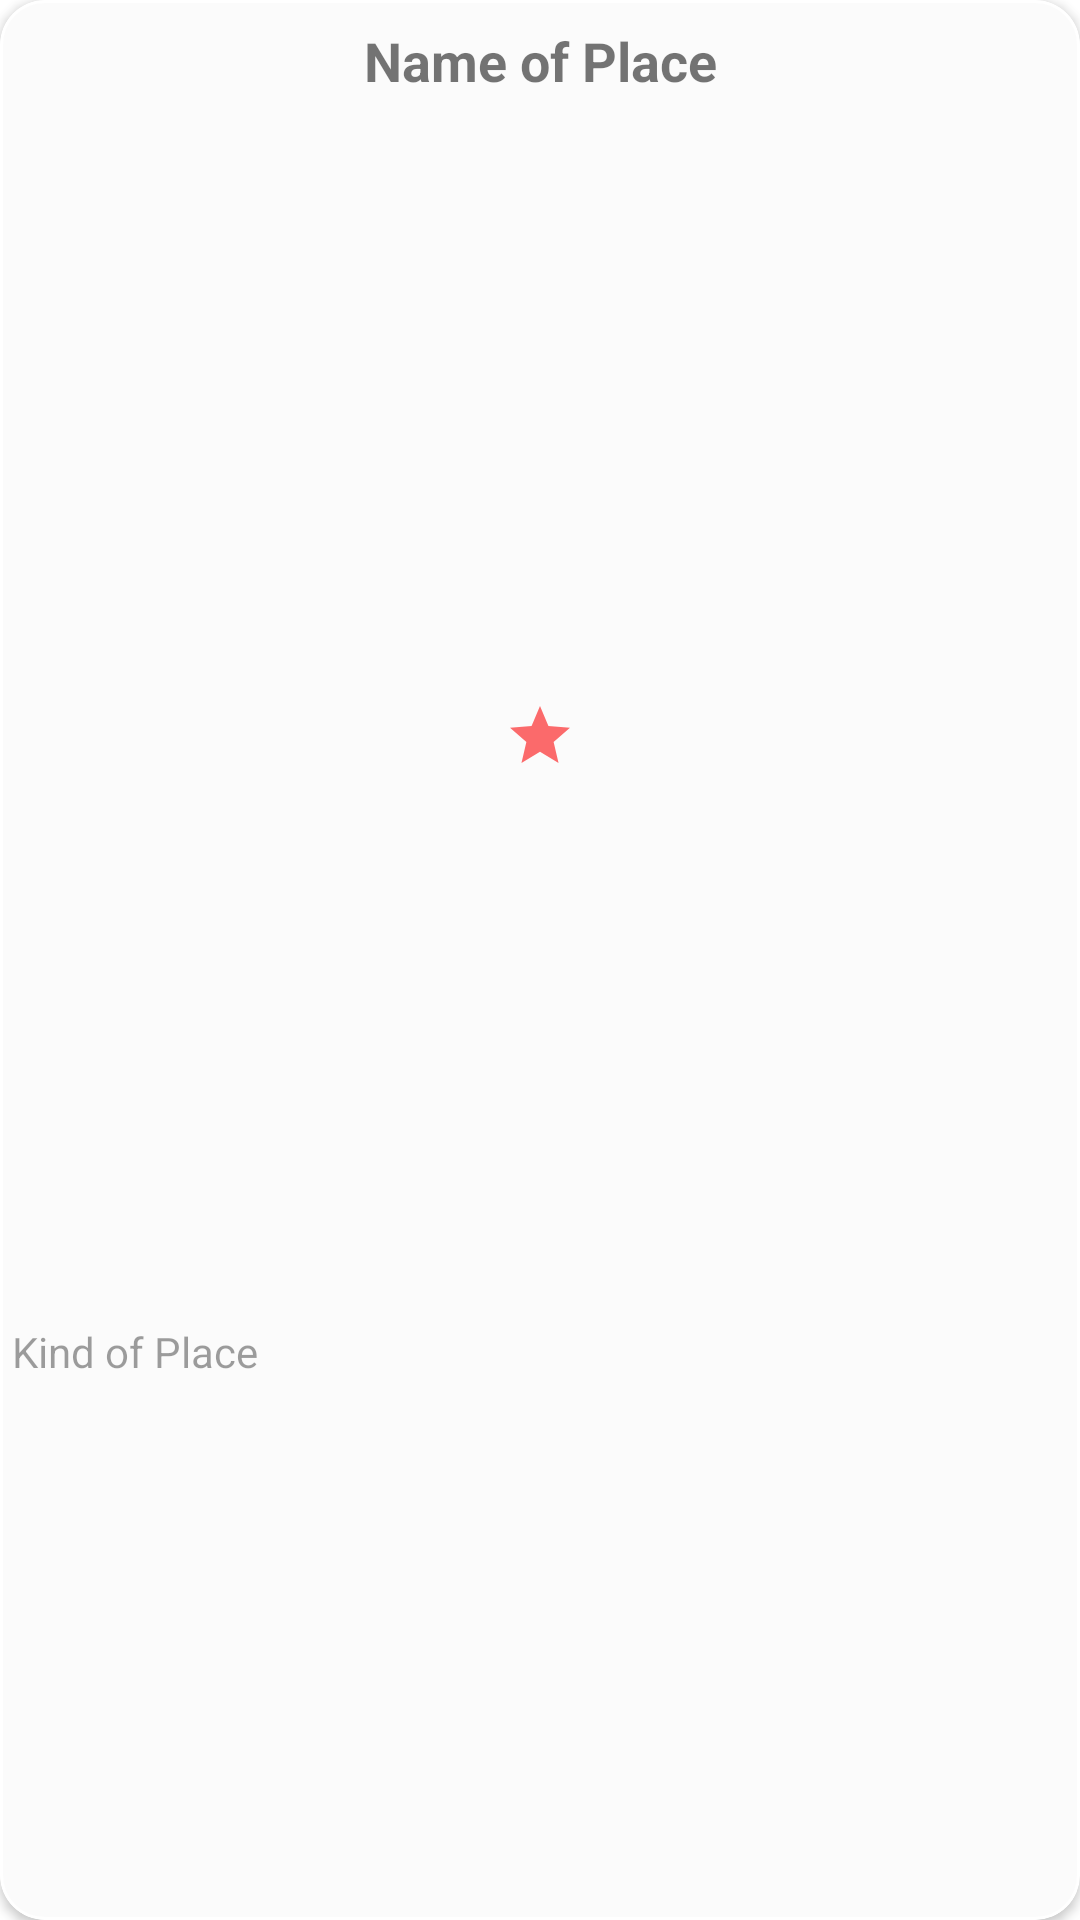

Icons on this 1080*1920 Android screen, each with the point to tap as (x,y):
rating: (540,734)
